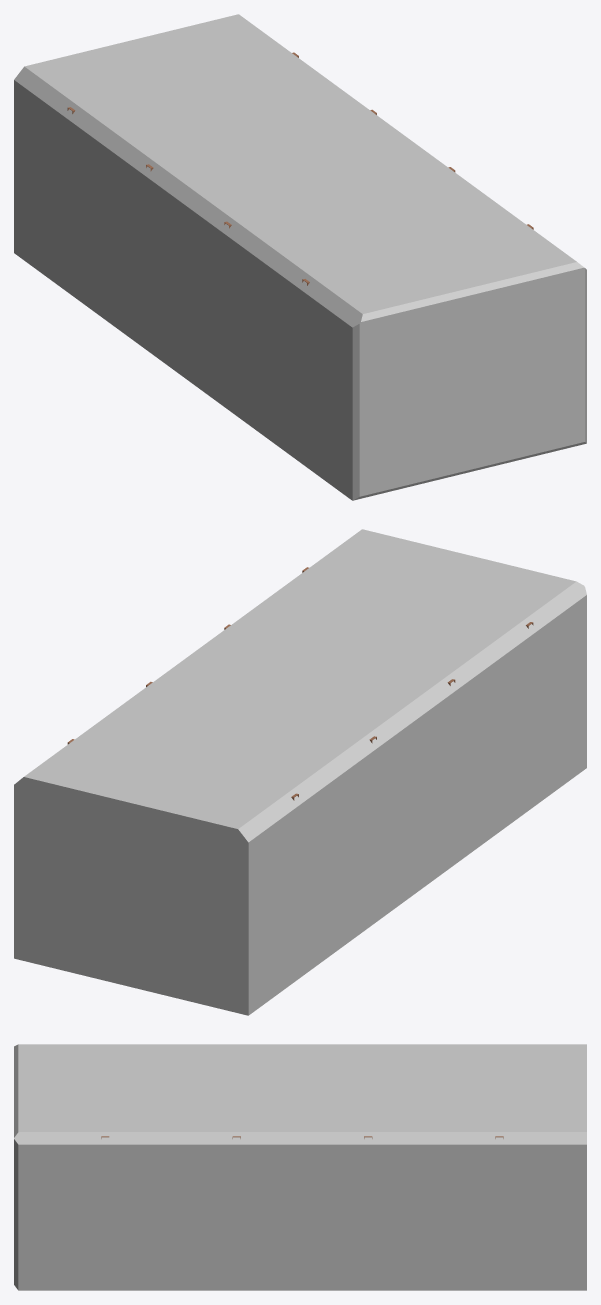
Rendered from SM_Factory_Warehouse_05.fbx.
3 views of the same model, one above another, from view 1: azimuth 30°, elevation 25°; view 2: azimuth 150°, elevation 25°; view 3: azimuth 270°, elevation 25° (orthographic). The views are drawn at different scales.
Visible parts, largest first — view 1: SM_Factory_Warehouse_05_ConvexHulls; view 2: SM_Factory_Warehouse_05_ConvexHulls; view 3: SM_Factory_Warehouse_05_ConvexHulls.
Part boxes in pixels (<box>): SM_Factory_Warehouse_05_ConvexHulls: <box>14,14,586,500</box>; SM_Factory_Warehouse_05_ConvexHulls: <box>14,529,586,1015</box>; SM_Factory_Warehouse_05_ConvexHulls: <box>14,1044,586,1290</box>.
Size of the model in its own units: 800 by 2016 by 600.
2 materials, 1 textured.
